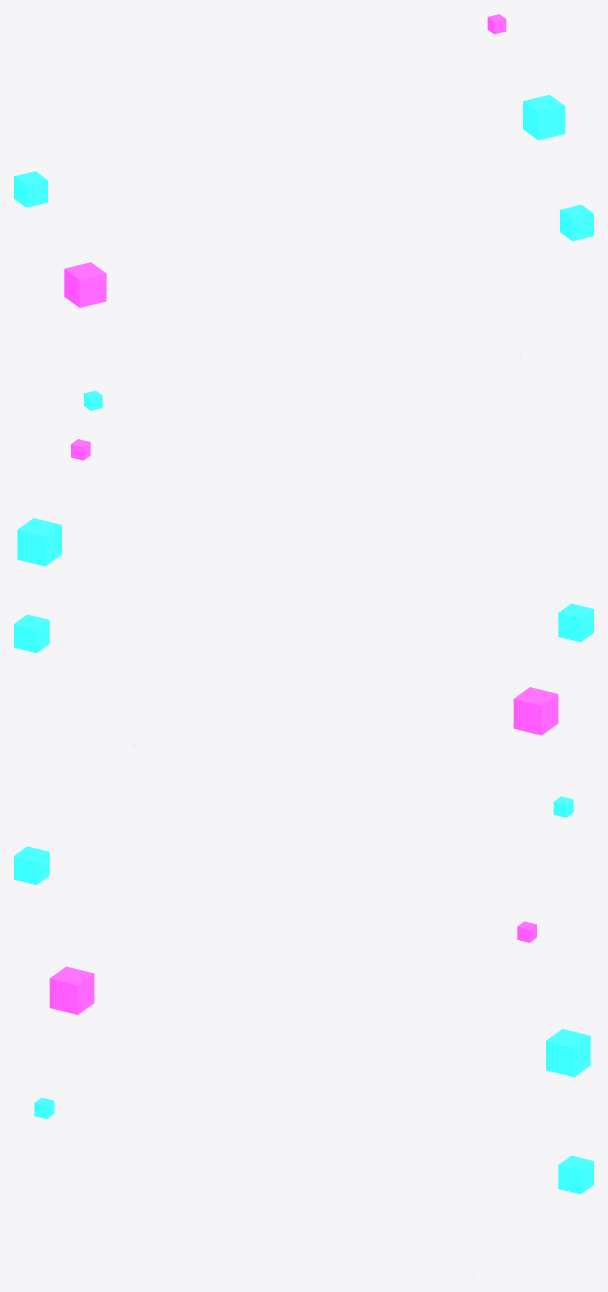
Rendered from respawn-arcade-v1-accessories.fbx.
3 renders of one model, top to bottom at view 1: azimuth 30°, elevation 25°; view 2: azimuth 150°, elevation 25°; view 3: azimuth 330°, elevation 25°, orthographic. The views are drawn at different scales.
Parts seen in each view (by area): view 1: RespawnPixel_3, RespawnPixel_4, RespawnPixel_2, RespawnPixel_5; view 2: RespawnPixel_3, RespawnPixel_4, RespawnPixel_2, RespawnPixel_5; view 3: RespawnPixel_3, RespawnPixel_4, RespawnPixel_5, RespawnPixel_2.
Part boxes in pixels (left/top/right/bottom): RespawnPixel_3: left=64, top=262, right=106, bottom=307; RespawnPixel_4: left=523, top=94, right=565, bottom=140; RespawnPixel_2: left=560, top=204, right=593, bottom=241; RespawnPixel_5: left=14, top=171, right=47, bottom=207; RespawnPixel_3: left=513, top=687, right=558, bottom=735; RespawnPixel_4: left=17, top=518, right=61, bottom=566; RespawnPixel_2: left=14, top=614, right=49, bottom=653; RespawnPixel_5: left=558, top=603, right=593, bottom=642; RespawnPixel_3: left=49, top=966, right=94, bottom=1014; RespawnPixel_4: left=546, top=1029, right=590, bottom=1077; RespawnPixel_5: left=14, top=846, right=49, bottom=884; RespawnPixel_2: left=558, top=1155, right=593, bottom=1194.
Bounding box in the file's own units: 1266 × 678 × 168.
